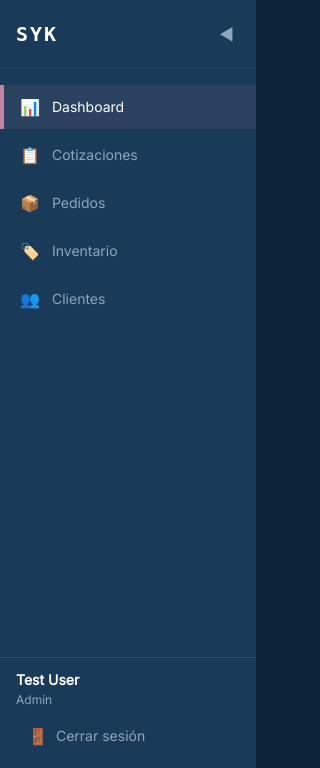
Scenario: Sidebar accessibility compliance › Collapse/expand button aria-label (Req 13.4) › displays "Expandir menú" aria-label after collapsing
The width and height of the screenshot is (320, 768).
Click the button named "Colapsar menú" at (227,34), box [213,16,240,52]
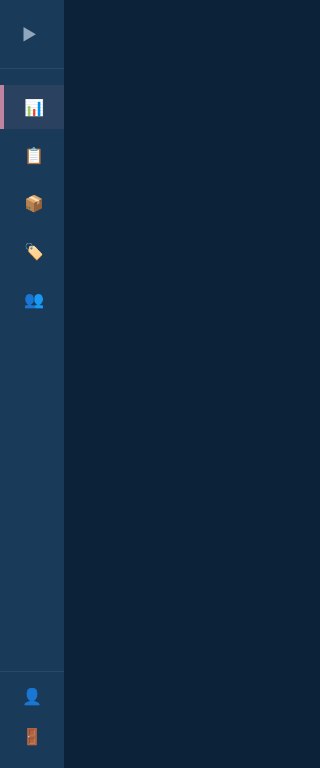
Expected: the button named "Expandir menú" is shown, [16,16,43,52]
